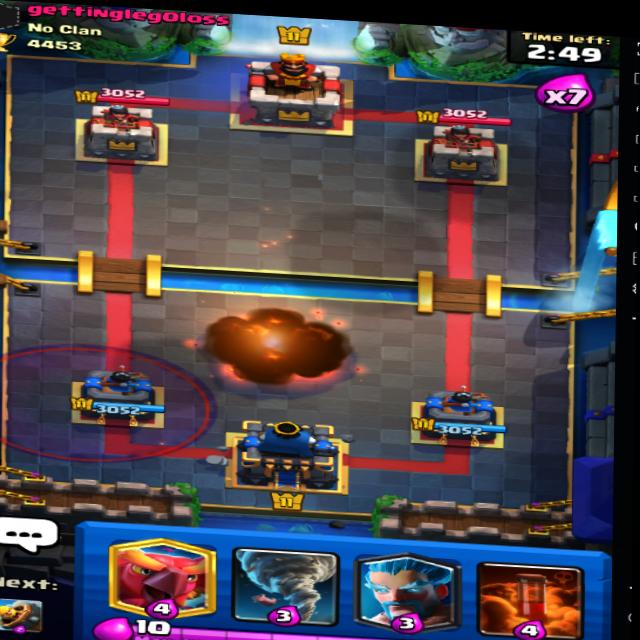Graveyard: (0, 328, 215, 471)
